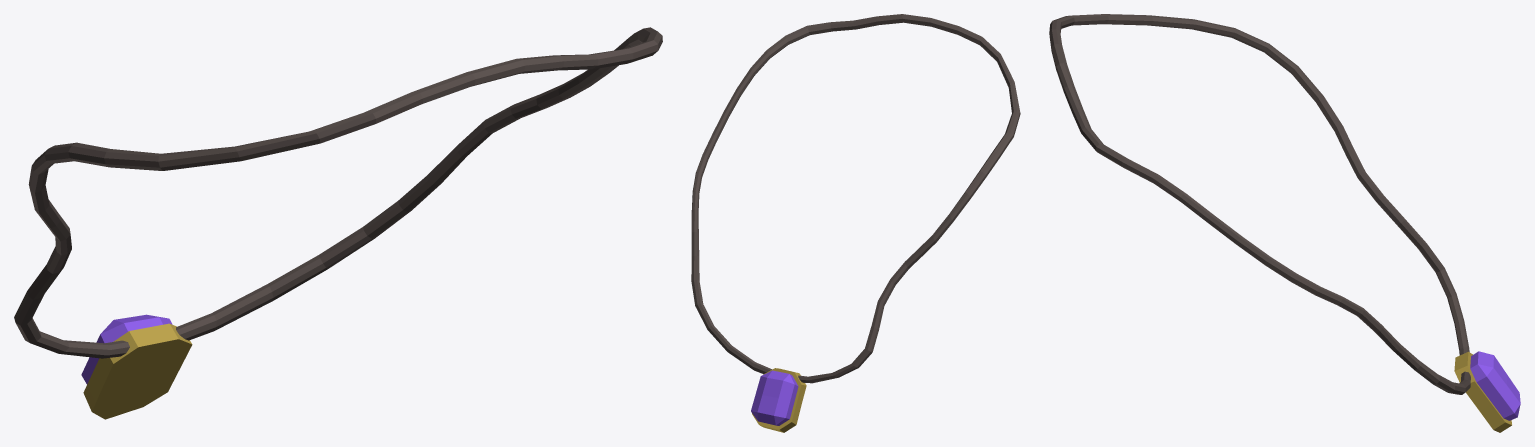
The model's file is SM_Necklace1.fbx.
The picture shows the model from 3 angles, left to right: view 1: azimuth 30°, elevation 25°; view 2: azimuth 150°, elevation 25°; view 3: azimuth 270°, elevation 25°; orthographic projection. The views are drawn at different scales.
Parts seen in each view (by area): view 1: SM_Necklace1; view 2: SM_Necklace1; view 3: SM_Necklace1.
Part boxes in pixels (box(x1,y1,x2,y2)): SM_Necklace1: box(14, 27, 662, 419); SM_Necklace1: box(691, 14, 1020, 432); SM_Necklace1: box(1049, 14, 1520, 432).
Bounding box in the file's own units: 87.34 × 87.67 × 96.29.
